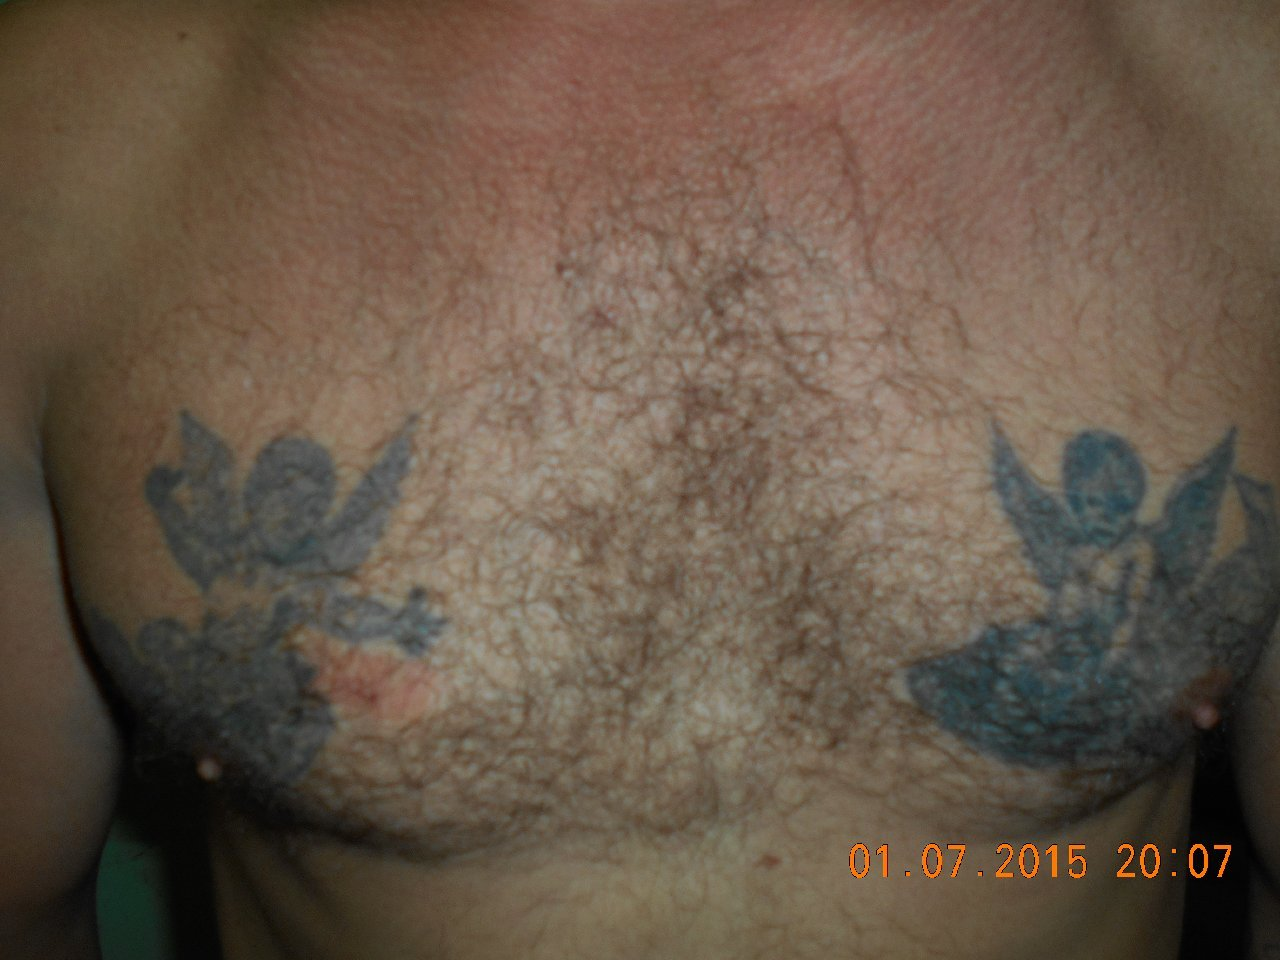tatu1_angel: (71, 412, 476, 806), (893, 409, 1280, 799)
